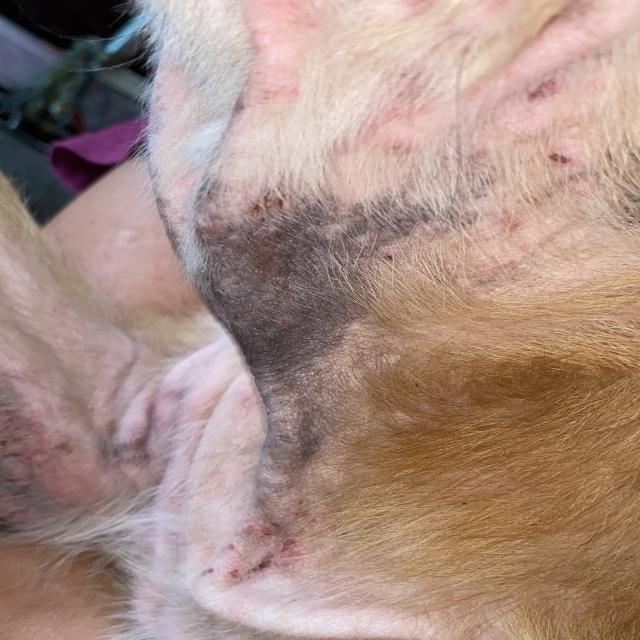demodicosis: (201, 171, 485, 378), (231, 392, 372, 586)
